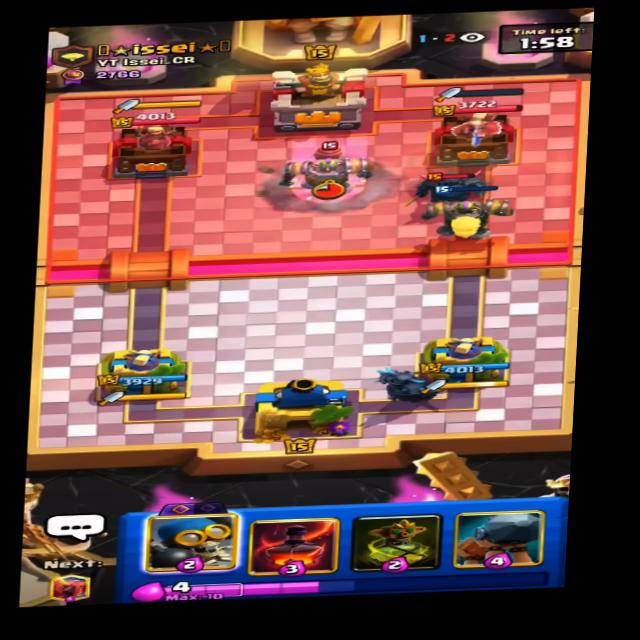goblin-machine: (282, 135, 383, 201)
pekka: (404, 164, 495, 210)
